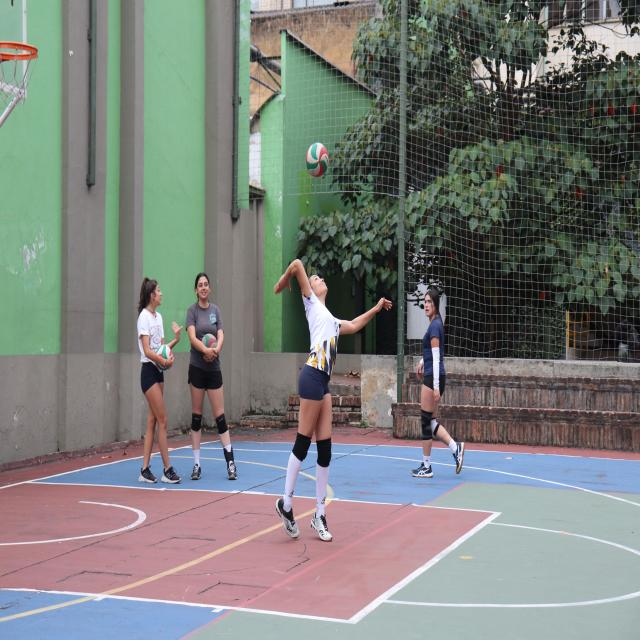volleyball: (306, 142, 329, 178), (156, 345, 173, 370), (201, 334, 218, 349)
